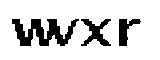r: (116, 17, 143, 49)
v: (51, 17, 77, 46)
w: (8, 14, 55, 49)
x: (79, 17, 111, 48)
